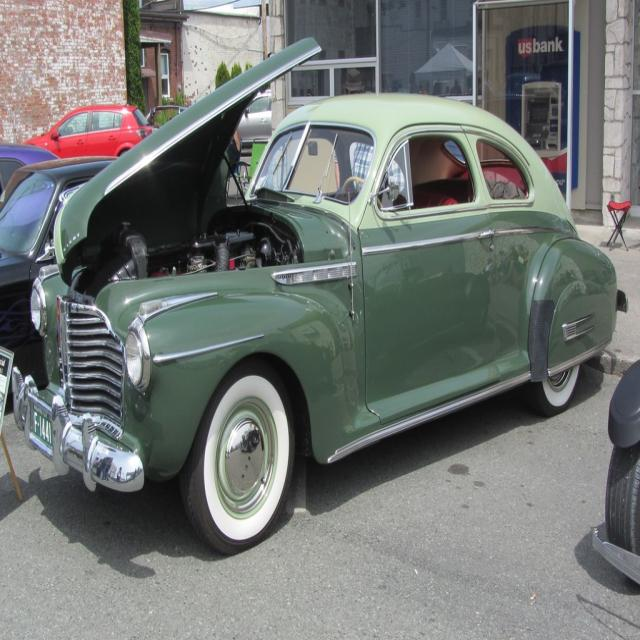car: (12, 36, 628, 557)
